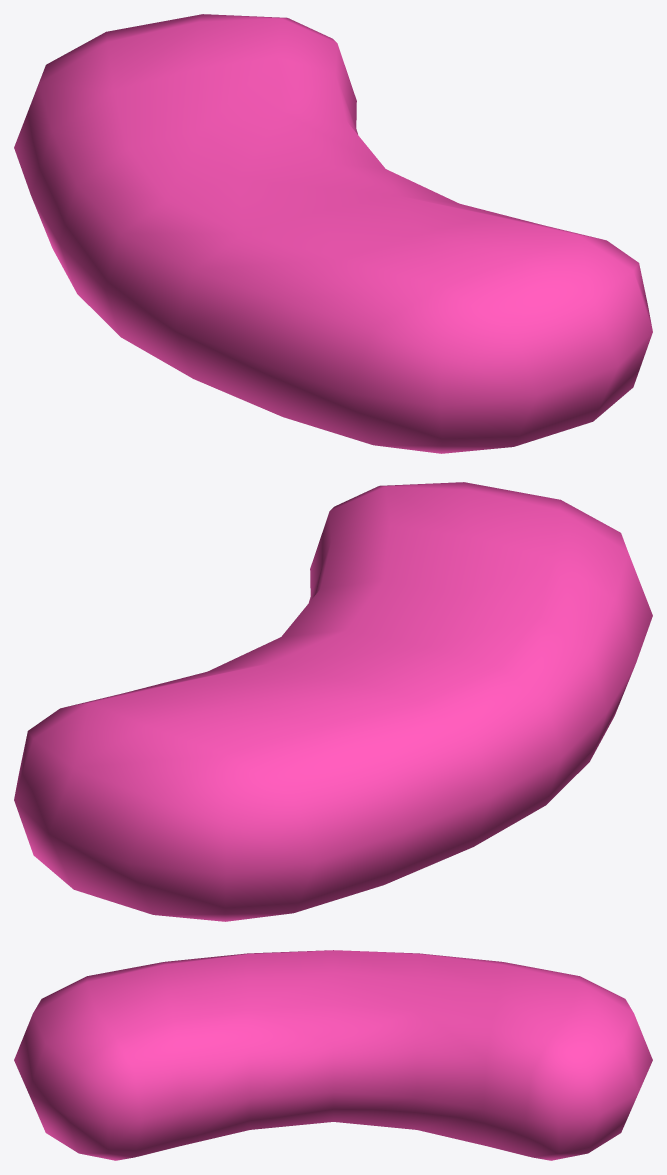
The model's file is Jelly Bean Pink.fbx.
3 views of the same model, one above another, from view 1: azimuth 30°, elevation 25°; view 2: azimuth 150°, elevation 25°; view 3: azimuth 270°, elevation 25° (orthographic). The views are drawn at different scales.
Parts seen in each view (by area): view 1: Jelly Bean Pink; view 2: Jelly Bean Pink; view 3: Jelly Bean Pink.
Part boxes in pixels (bbox=[...]): Jelly Bean Pink: bbox=[14, 14, 652, 453]; Jelly Bean Pink: bbox=[14, 482, 652, 921]; Jelly Bean Pink: bbox=[14, 950, 652, 1160].
Bounding box in the file's own units: 0.0763 × 0.0329 × 0.1467.
